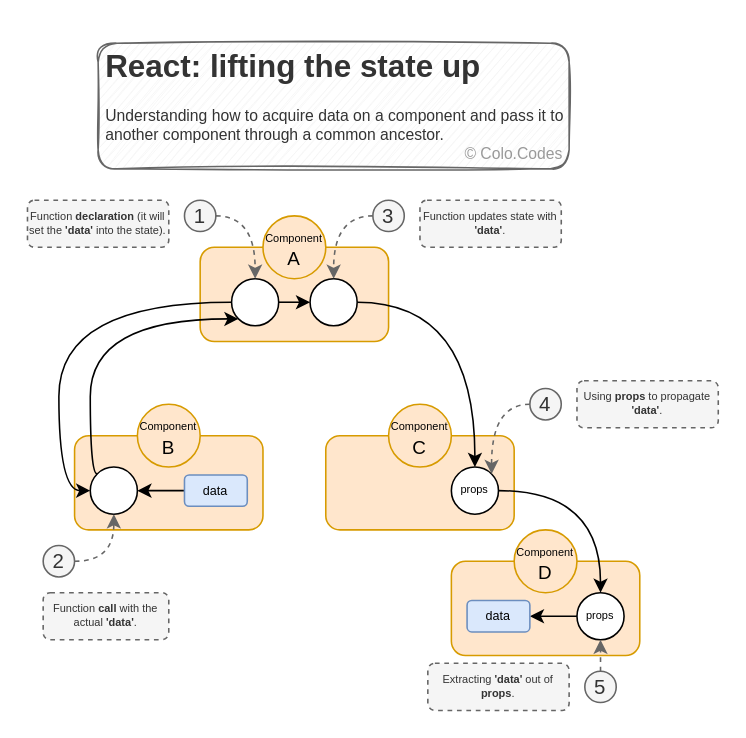
Image size: 746x738. Some labels were removed from this diagram. Each missing label, with the centre of its shape:
function: the point at 254,301
function call: the point at 113,490
state: the point at 333,301
